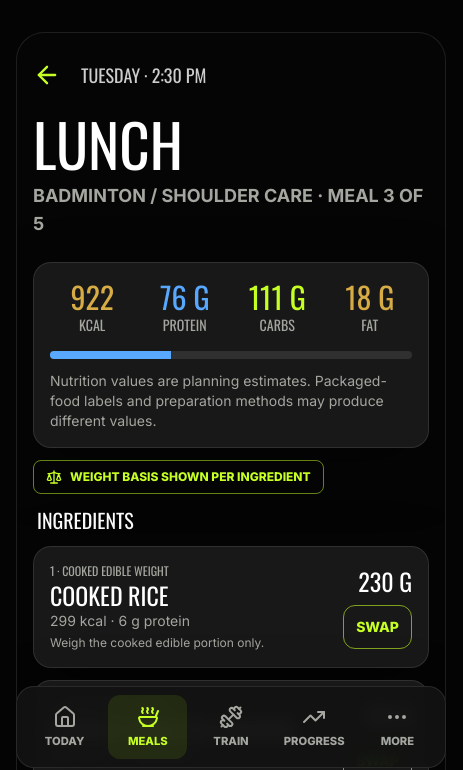
Scenario: Meals flow › renders meal detail and applies then reverts a controlled substitution
The image size is (463, 770).
Expected: the heading "Lunch" is shown, [33,99,183,187]
What coordinates should you click on to do the following:
click the button "Swap"
I would click on:
 (378, 627)
Its box is [343,605,412,649].
(page scrolled)
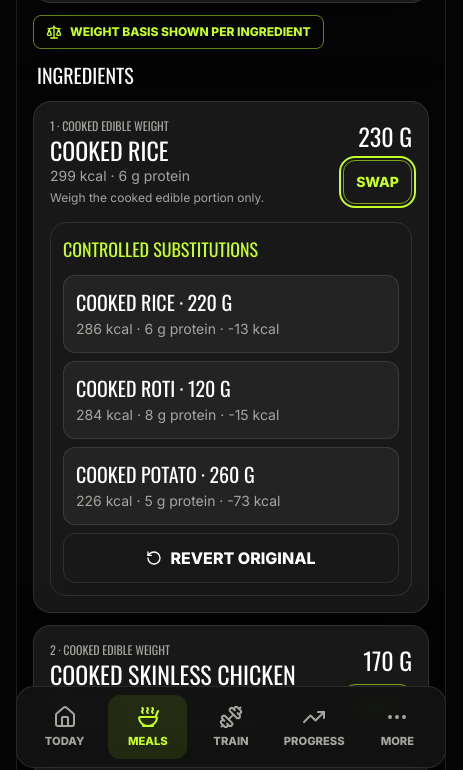
What coordinates should you click on to do the following:
click the button "Cooked roti · 120 g 284 kcal · 8 g protein · -15 kcal"
I would click on:
 (231, 400)
Its box is [63,361,399,439].
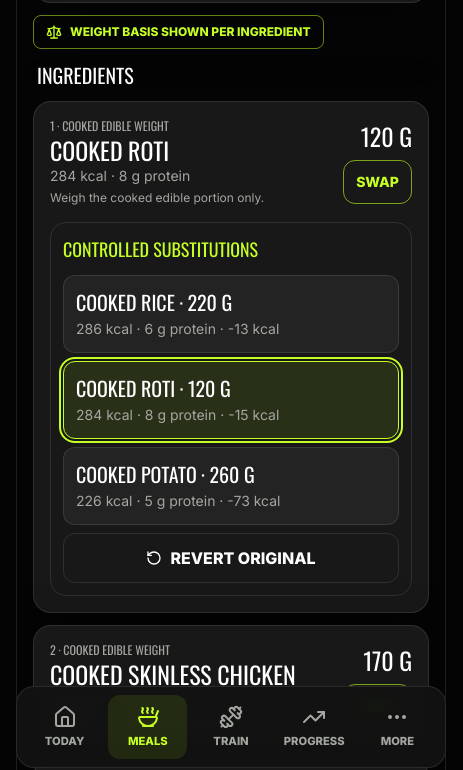
Now the heading "Cooked roti" is shown, box [50,132,169,168]
What coordinates should you click on to do the following:
click the button "Revert Original"
I would click on:
 (231, 558)
Its box is [63,533,399,583].
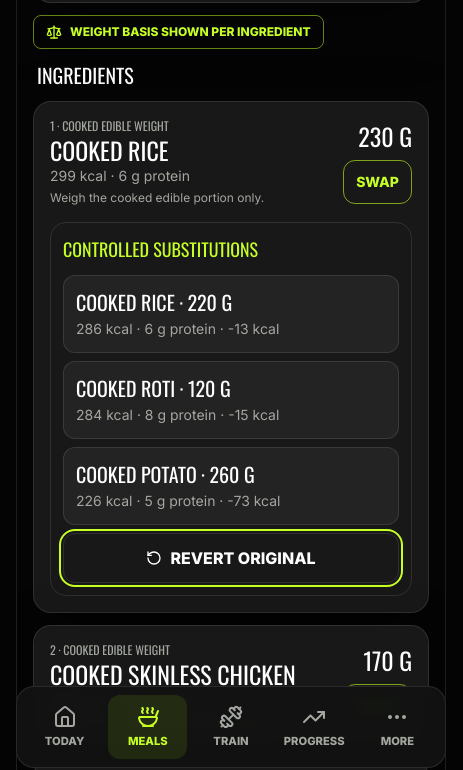
Now the heading "Cooked rice" is shown, box [50,132,169,168]
